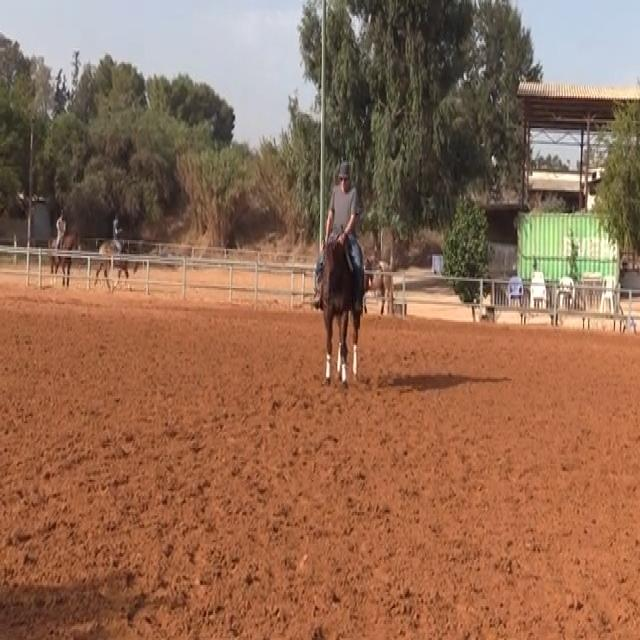horse: (317, 233, 370, 387)
